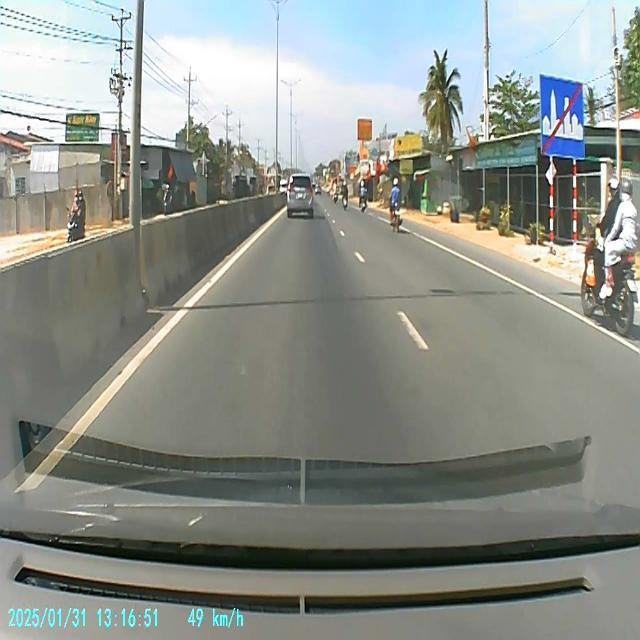421-ket-thuc-khu-dong-dan-cu: (538, 72, 586, 162)
